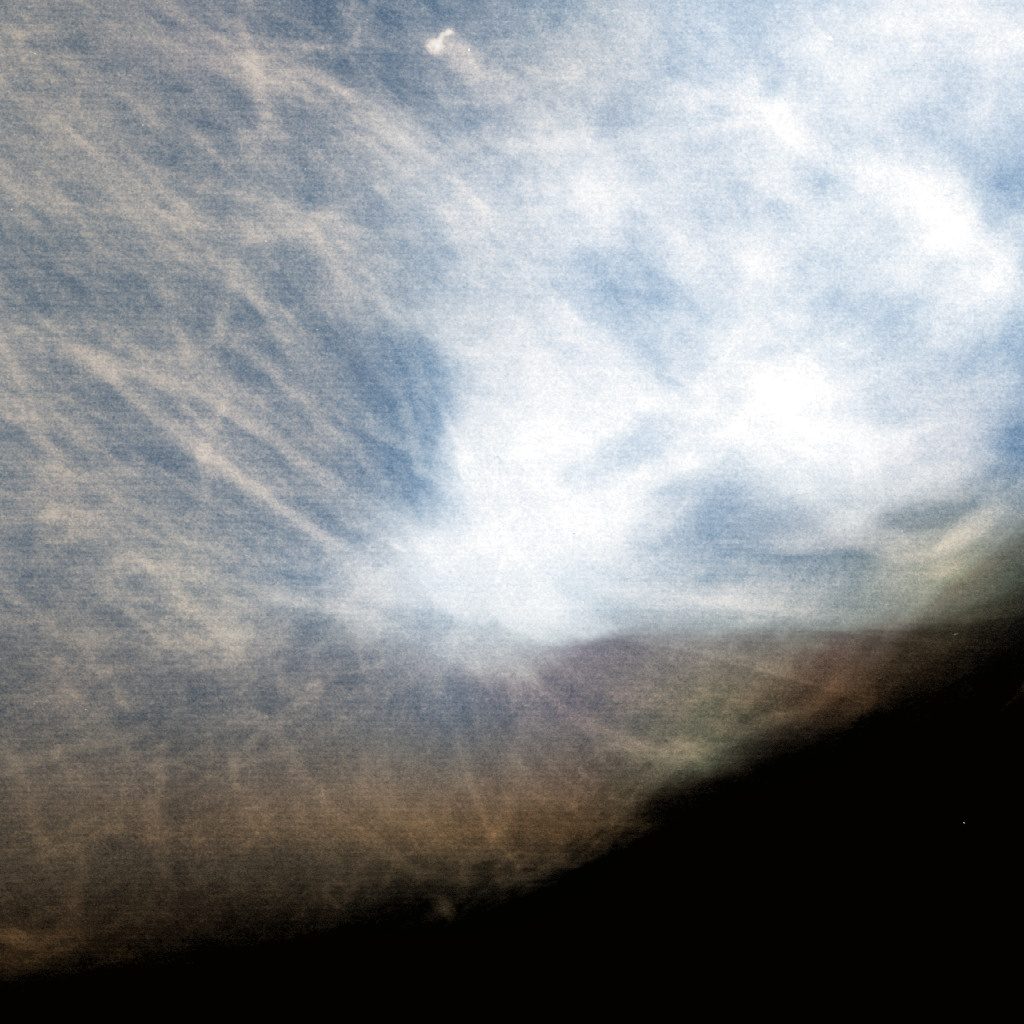tumor: (364, 374, 660, 650)
